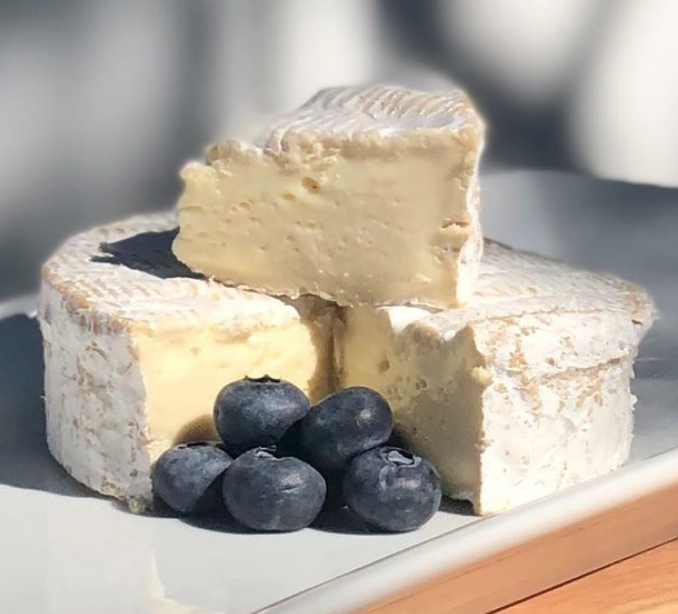camembert: (37, 201, 661, 520), (173, 63, 487, 309)
